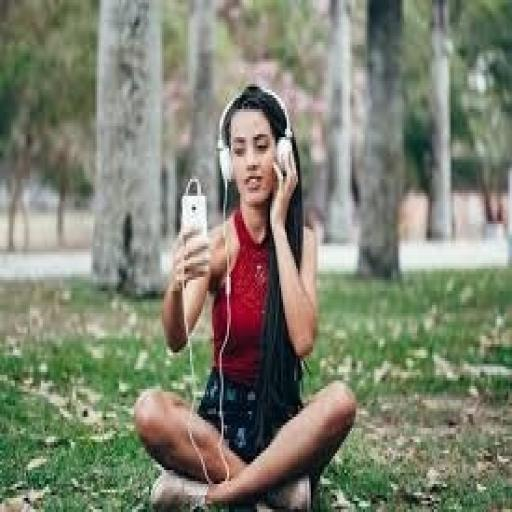listening_to_music: (132, 81, 360, 509)
